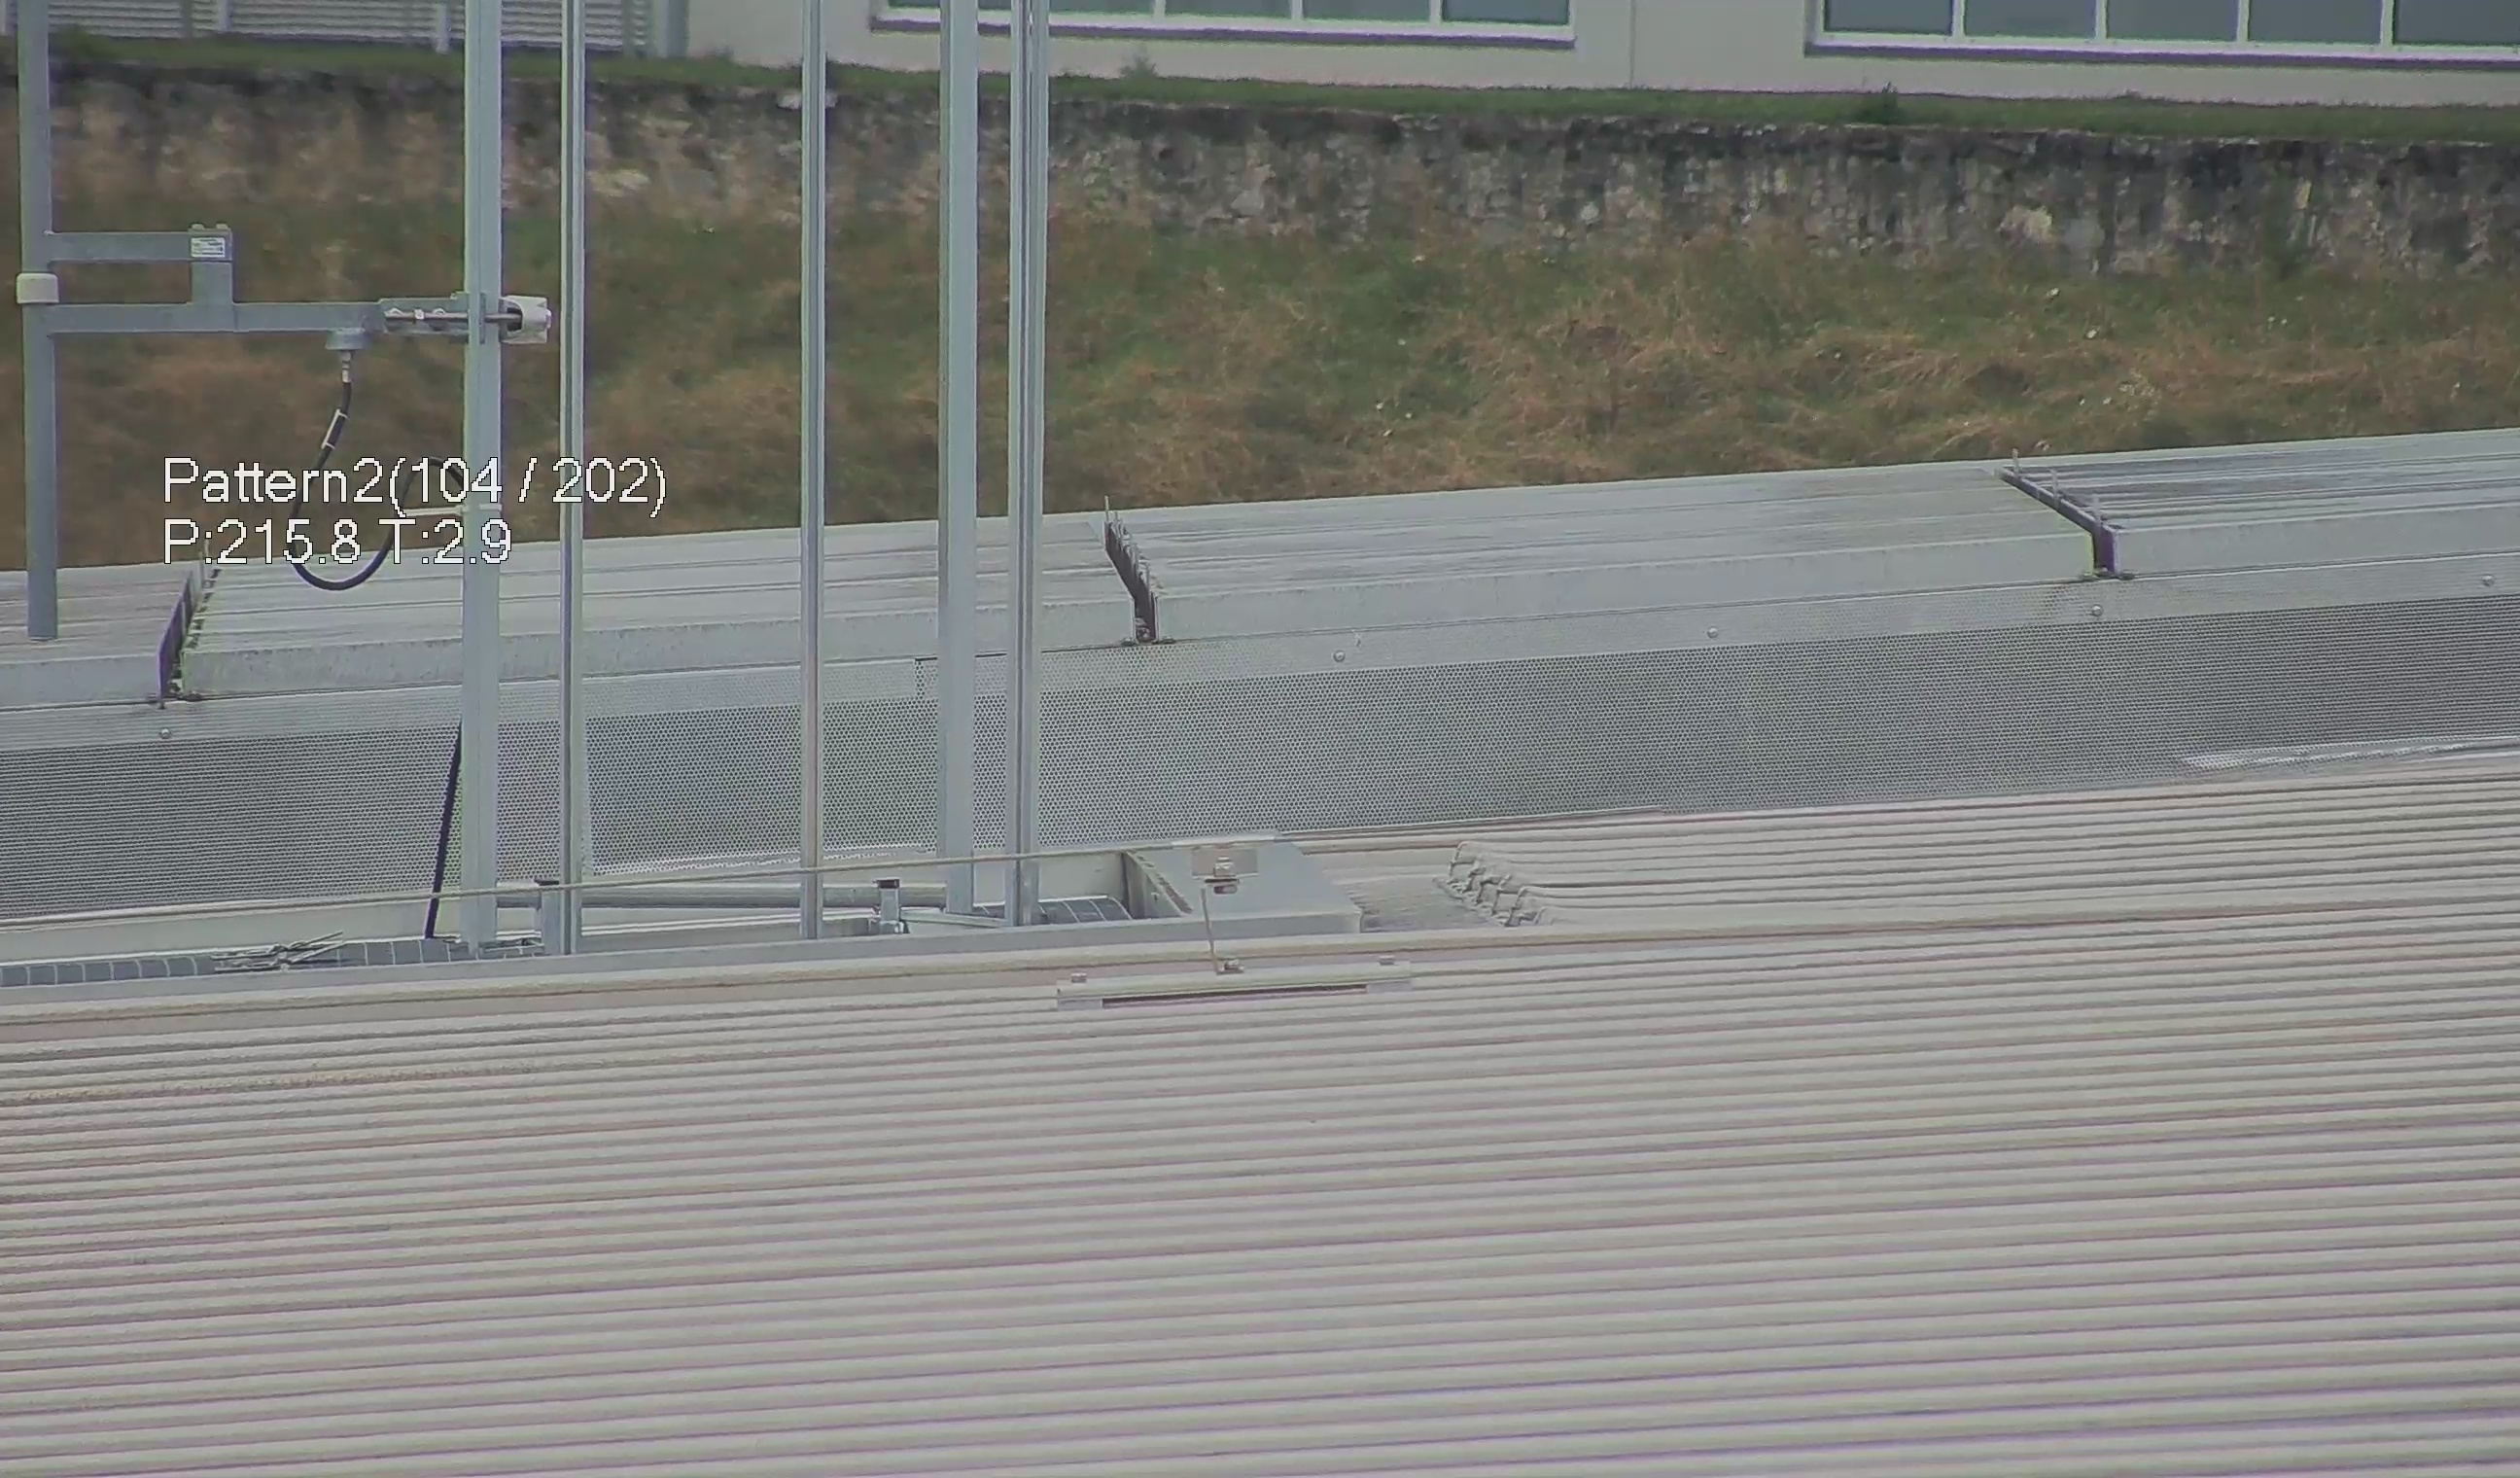Other: (1087, 498, 1180, 646)
